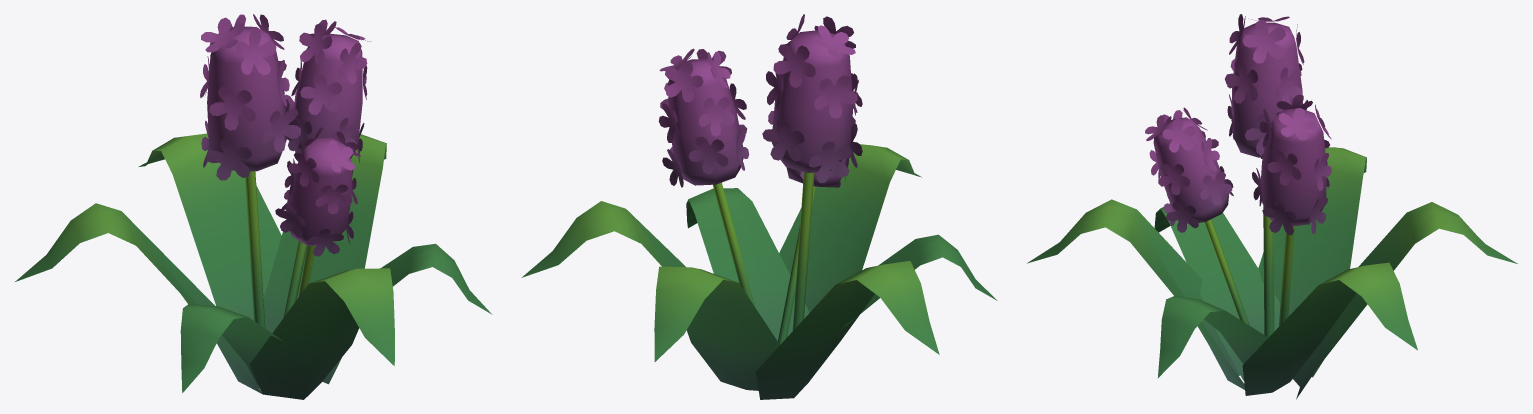
Rendered from flower19.glb.
3 renders of one model, left to right at view 1: azimuth 30°, elevation 25°; view 2: azimuth 150°, elevation 25°; view 3: azimuth 270°, elevation 25°, orthographic. The views are drawn at different scales.
Parts seen in each view (by area): view 1: Flower.026; view 2: Flower.026; view 3: Flower.026.
Boxes of the visible parts, box(x1,y1,x2,y2) form: Flower.026: box(15, 14, 492, 399); Flower.026: box(521, 14, 997, 399); Flower.026: box(1027, 14, 1517, 399).
Size of the model in its own units: 2.99 by 2.71 by 3.46.
Materials: 1 (1 with a texture image).
